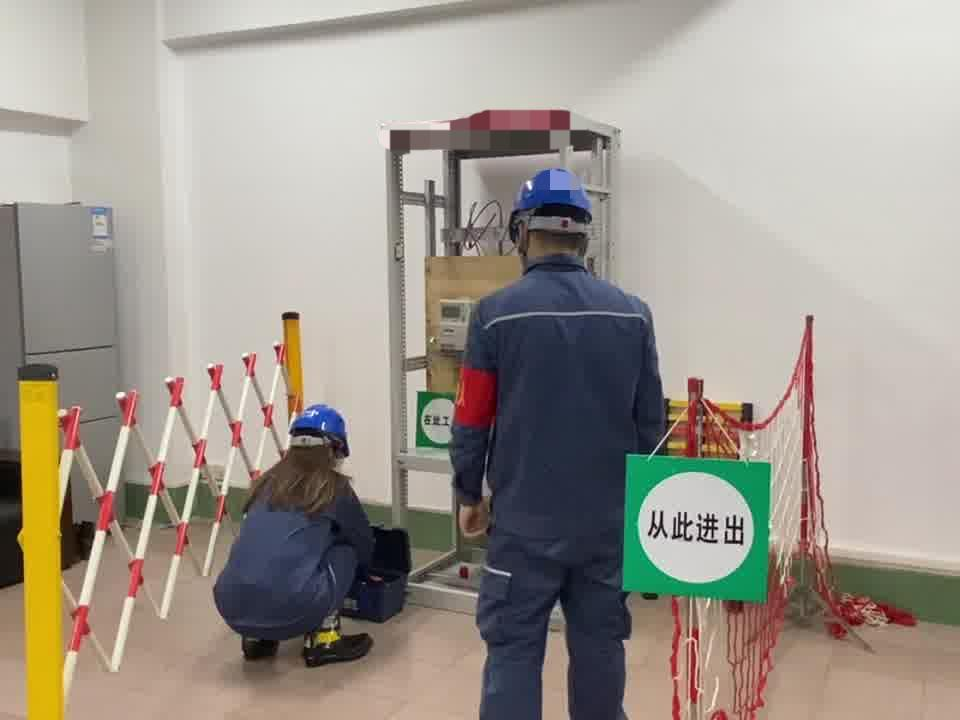halt: (509, 170, 600, 266)
inear: (511, 219, 537, 264)
